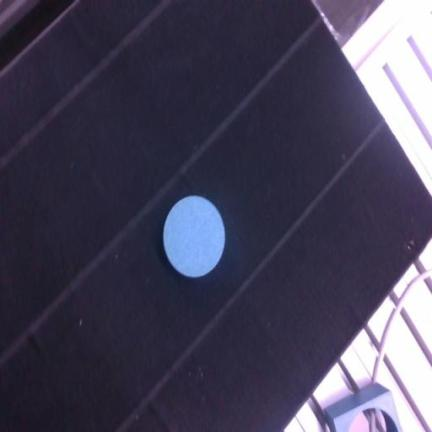cylinder: (163, 196, 224, 277)
